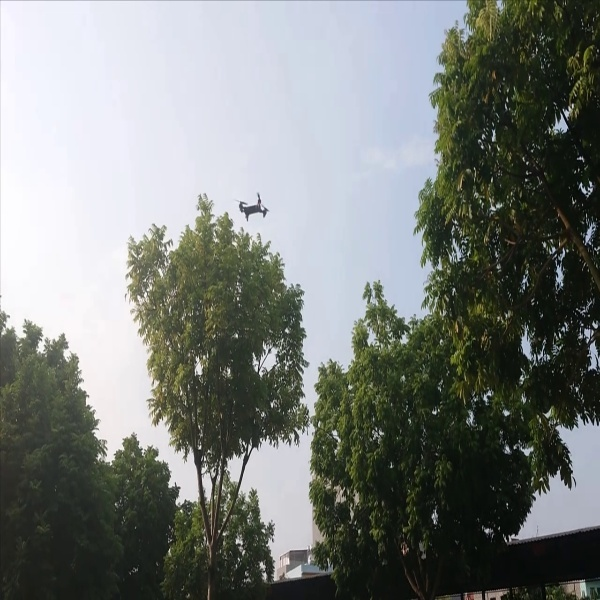drone: (234, 194, 272, 227)
